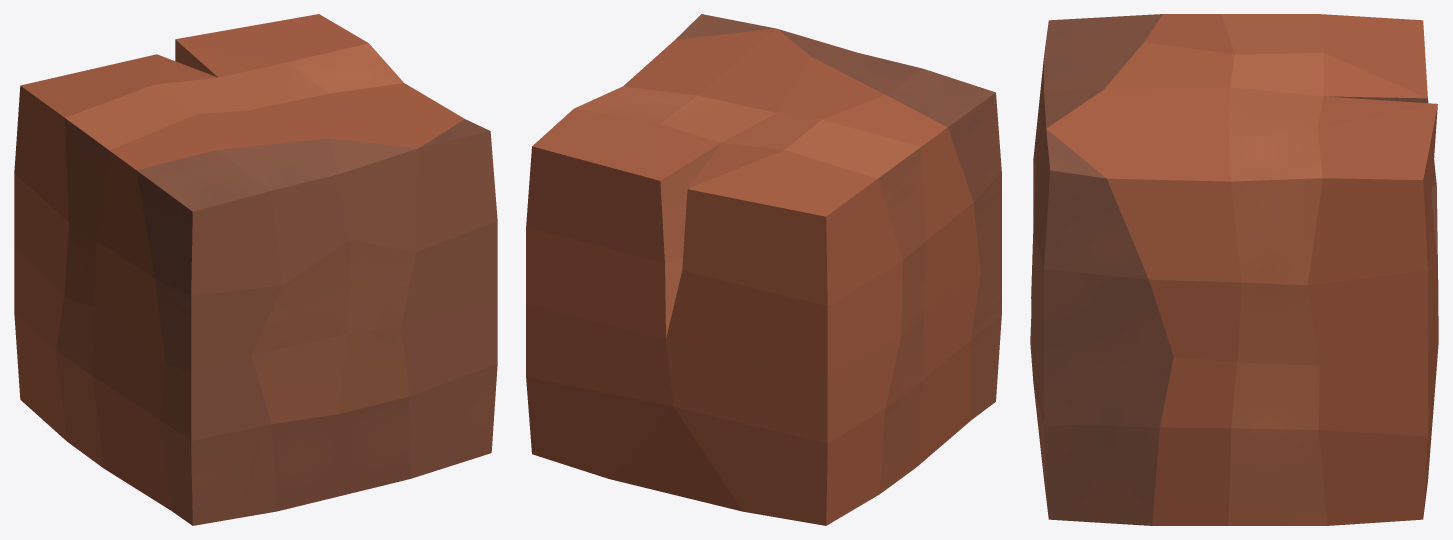
Rendered from blockdirt.glb.
3 renders of one model, left to right at view 1: azimuth 30°, elevation 25°; view 2: azimuth 150°, elevation 25°; view 3: azimuth 270°, elevation 25°, orthographic. The views are drawn at different scales.
Visible parts, largest first — view 1: CubeTest; view 2: CubeTest; view 3: CubeTest.
Boxes of the visible parts, x1,y1,x2,y2 form: CubeTest: (14,14,497,525); CubeTest: (526,14,1001,525); CubeTest: (1030,14,1438,525).
Bounding box in the file's own units: 2.24 × 2.24 × 2.23.
Materials: 1 (1 with a texture image).
